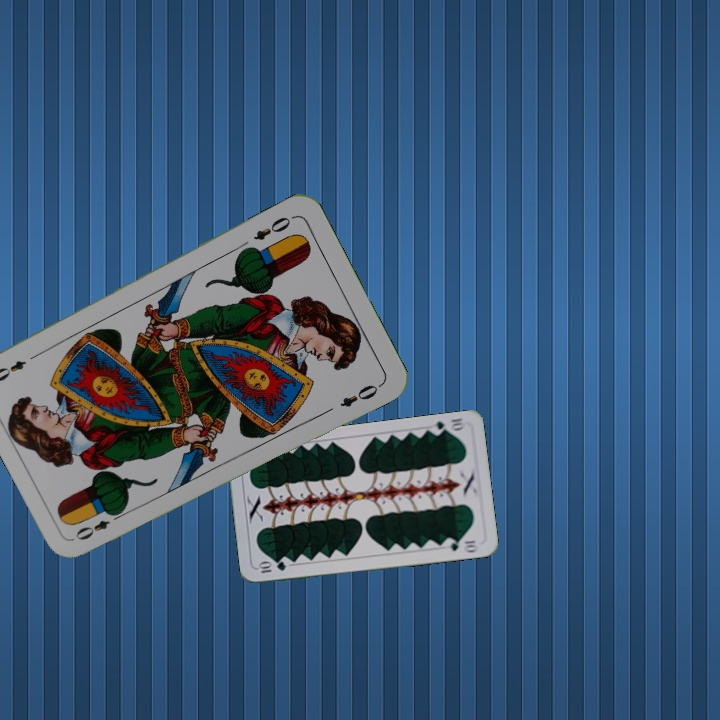EO: (71, 507, 126, 543), (249, 211, 297, 243)
G10: (427, 414, 467, 437), (254, 558, 288, 576)
